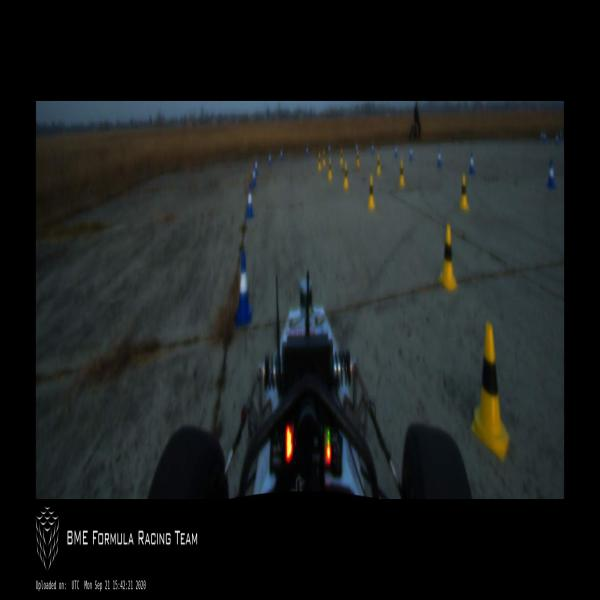blue_cone: (236, 250, 252, 326), (246, 184, 254, 218), (548, 158, 556, 188), (469, 152, 475, 175), (251, 166, 256, 187), (437, 151, 442, 168), (254, 157, 258, 175), (409, 146, 413, 160), (268, 153, 272, 166), (355, 140, 358, 156), (371, 141, 374, 156), (395, 144, 398, 159), (280, 149, 283, 163), (328, 143, 331, 154), (306, 145, 308, 157)
yellow_cone: (471, 327, 510, 459), (439, 224, 458, 291), (460, 172, 469, 210), (367, 175, 374, 210), (343, 163, 349, 190), (398, 157, 404, 183), (317, 152, 322, 172), (328, 158, 332, 182), (377, 153, 381, 176), (322, 149, 326, 167), (356, 150, 360, 168), (340, 148, 343, 164)
